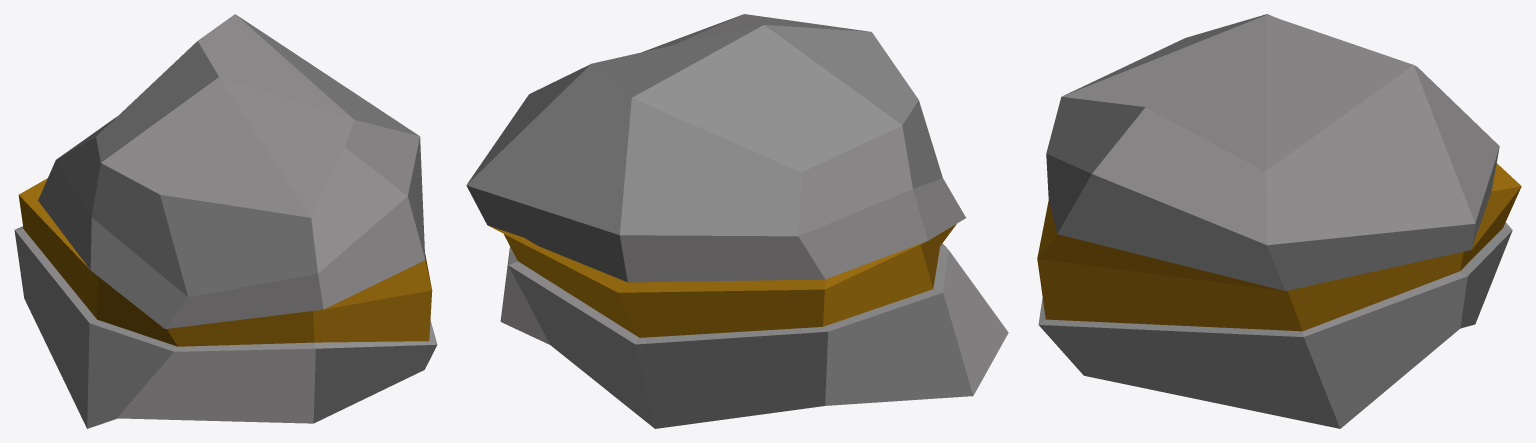
File: iron_ore.fbx
3 renders of one model, left to right at view 1: azimuth 30°, elevation 25°; view 2: azimuth 150°, elevation 25°; view 3: azimuth 270°, elevation 25°, orthographic. The views are drawn at different scales.
Visible parts, largest first — view 1: Cube.016; view 2: Cube.016; view 3: Cube.016.
Part boxes in pixels (bbox=[...]): Cube.016: bbox=[14, 14, 437, 428]; Cube.016: bbox=[466, 14, 1008, 428]; Cube.016: bbox=[1037, 14, 1521, 428].
Bounding box in the file's own units: 244 × 196 × 257.
